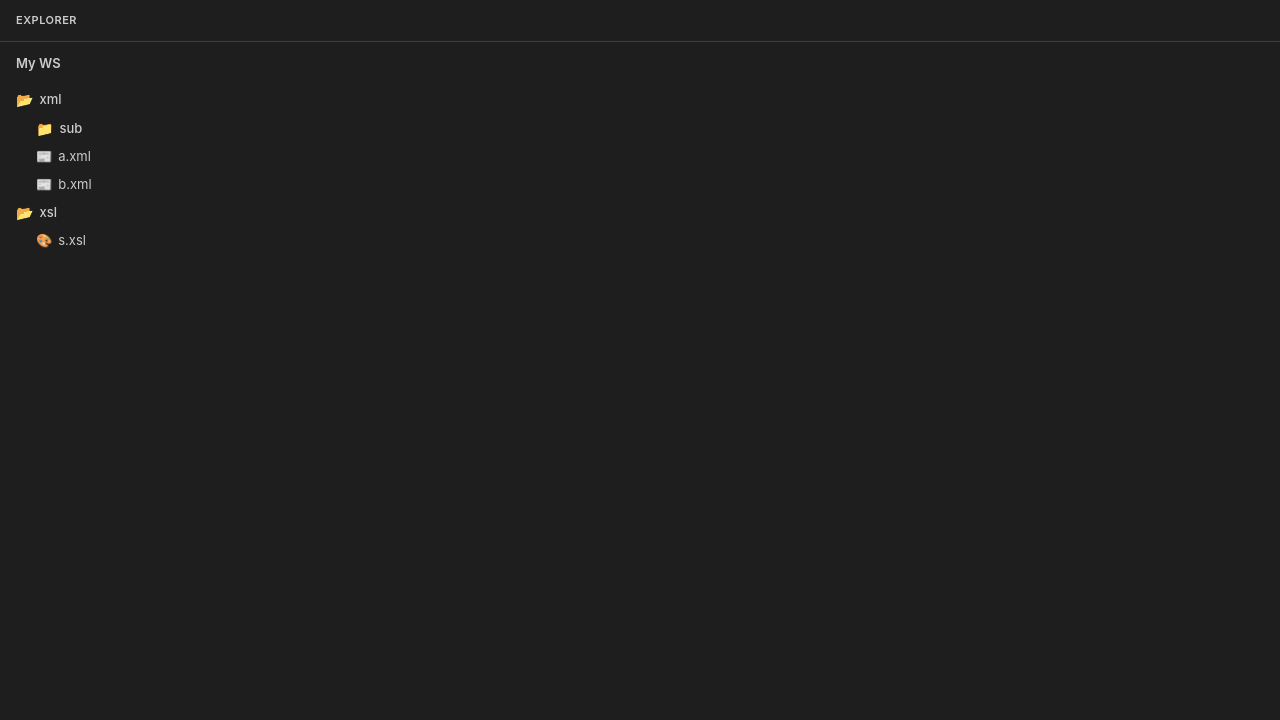
Test case: FileExplorer › rename › renames a file and notifies the parent
Right-click the text "a.xml": [63, 156] box left=36, top=148, right=91, bottom=164
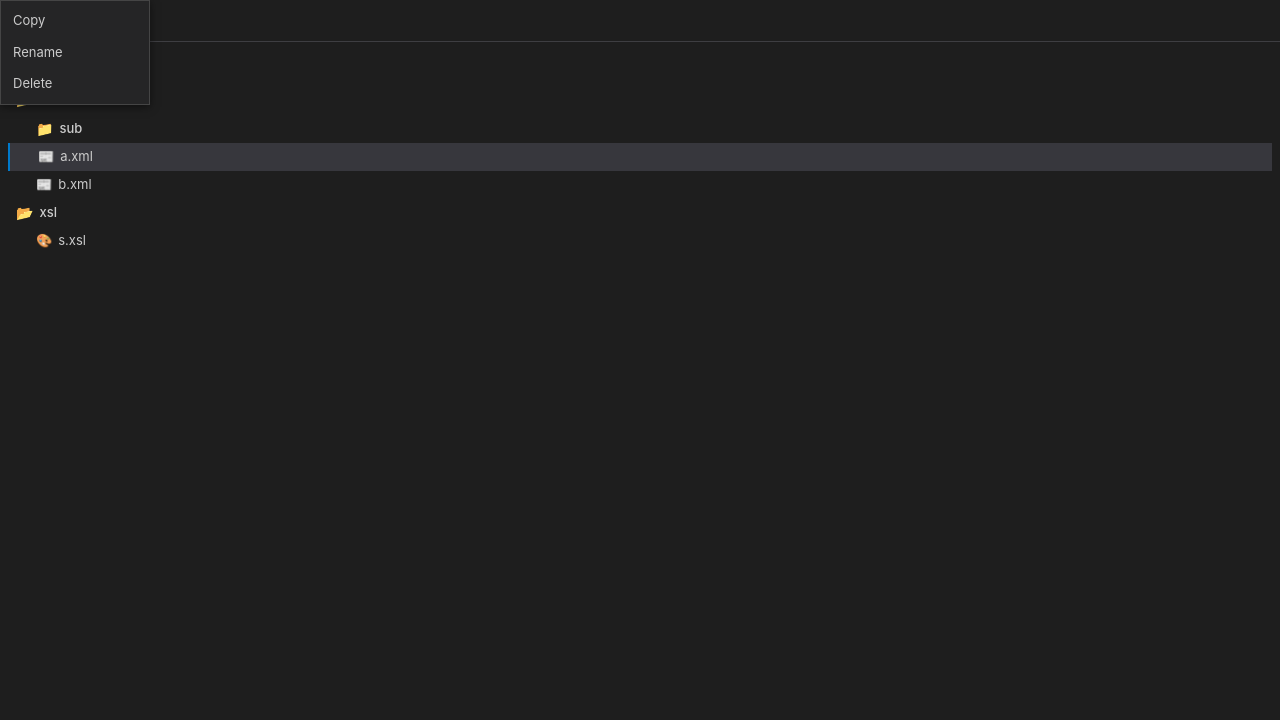
Click the text "Rename": [38, 52] box left=13, top=44, right=63, bottom=60
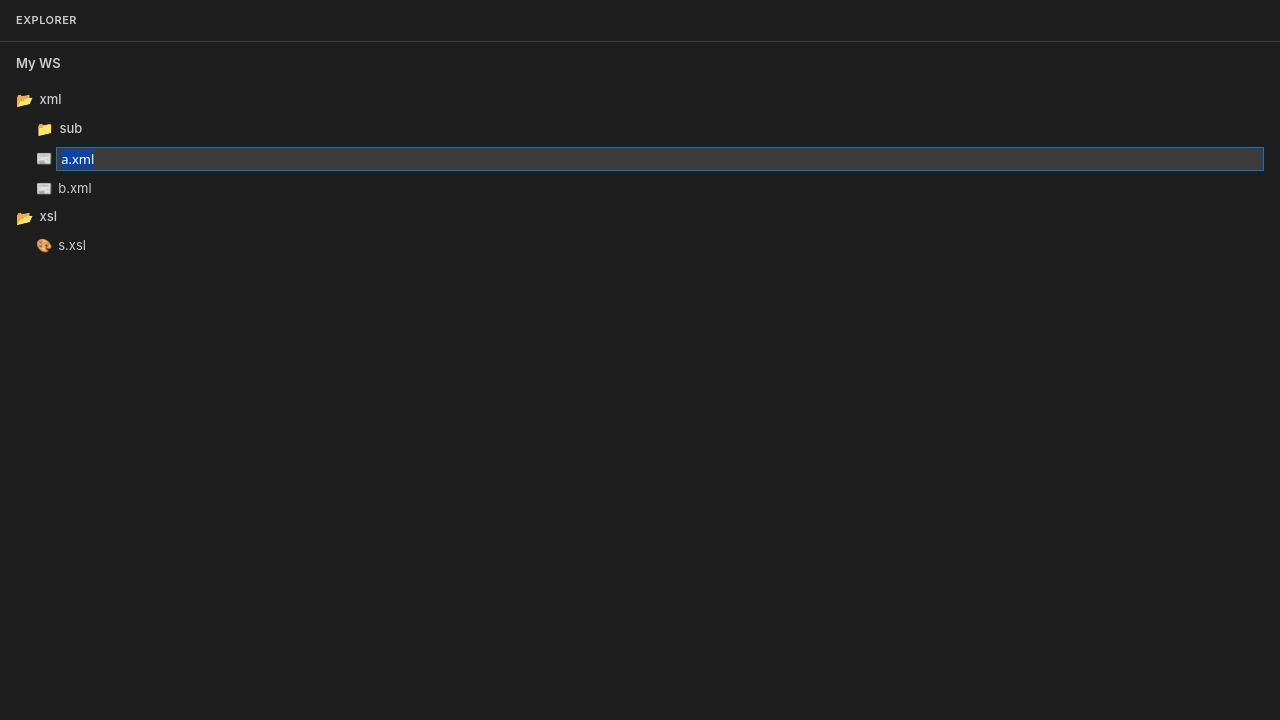
Result: the field with class "file-name-input" holds "a.xml"
Replace the text in the field with class "file-name-input" with "z.xml": [660, 159] box left=56, top=147, right=1264, bottom=171
Then press Enter
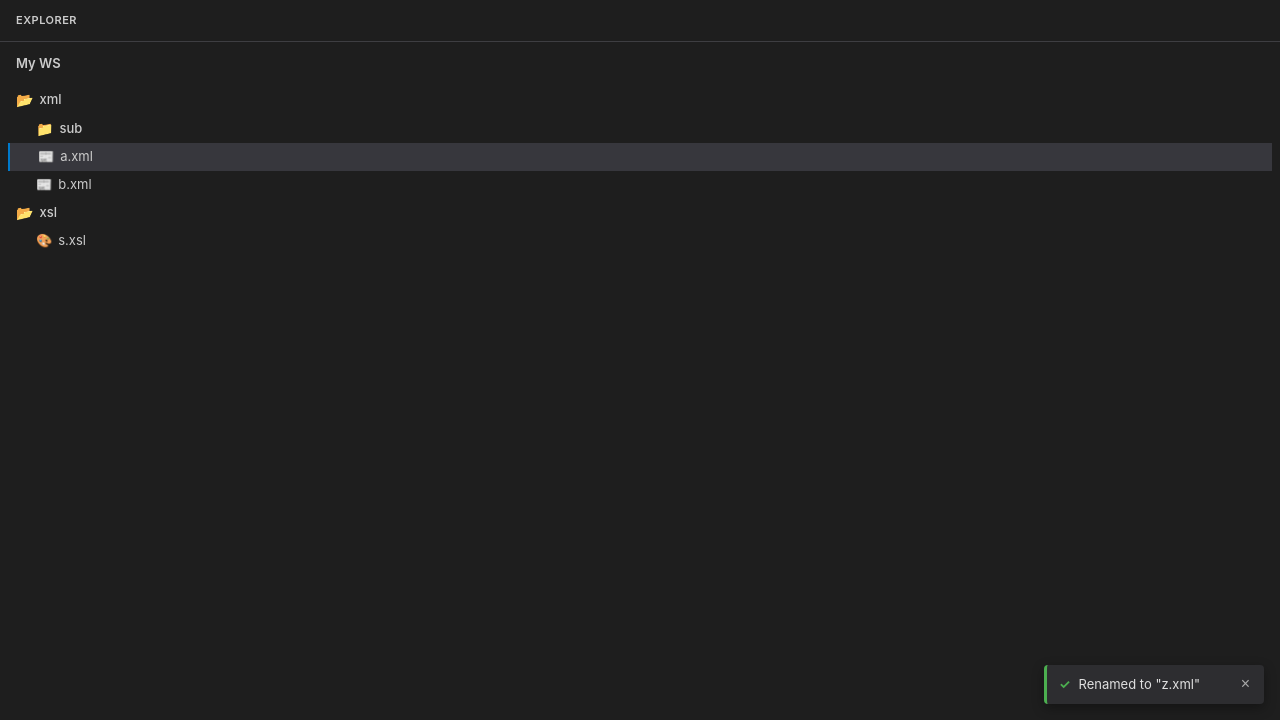
Result: the text "Renamed to \"z.xml\"" is shown at left=1078, top=676, right=1200, bottom=692
